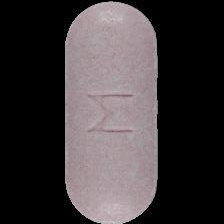63629-4205: (0, 0, 224, 224)
